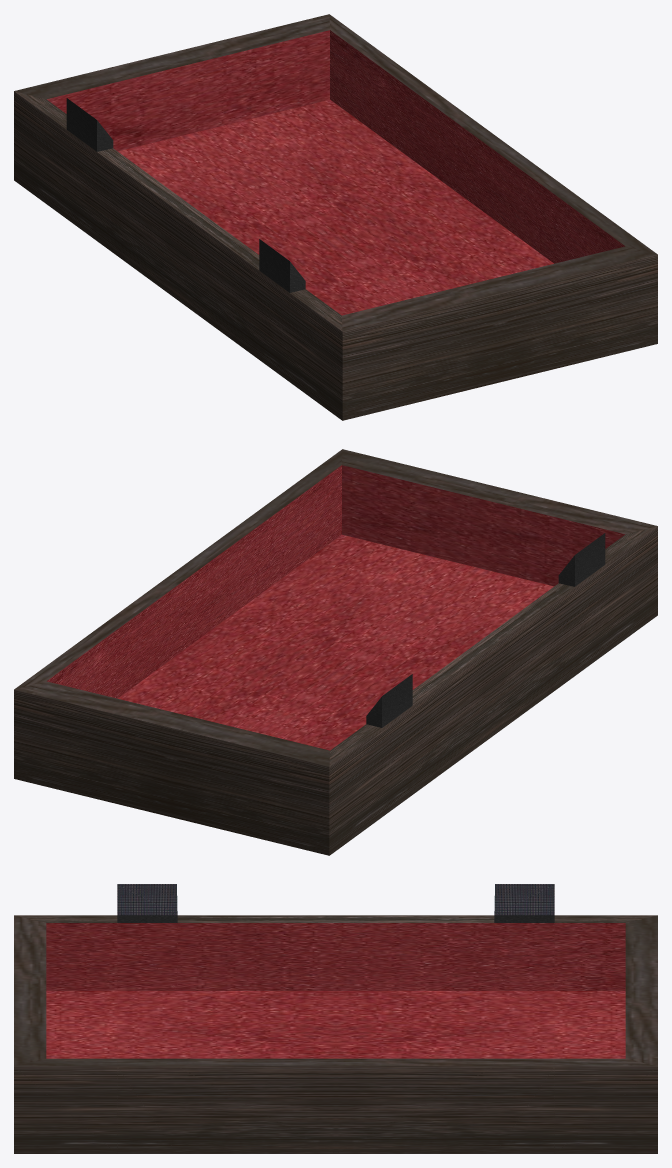
Rendered from dicebox.obj.
The picture shows the model from 3 angles, top to bottom: view 1: azimuth 30°, elevation 25°; view 2: azimuth 150°, elevation 25°; view 3: azimuth 270°, elevation 25°; orthographic projection. The views are drawn at different scales.
Visible parts, largest first — view 1: Cube; view 2: Cube; view 3: Cube.
Boxes of the visible parts, <box> form: Cube: <box>14,14,657,420</box>; Cube: <box>14,449,657,855</box>; Cube: <box>14,884,657,1153</box>.
Bounding box in the file's own units: 10.36 × 3.8 × 18.68.
